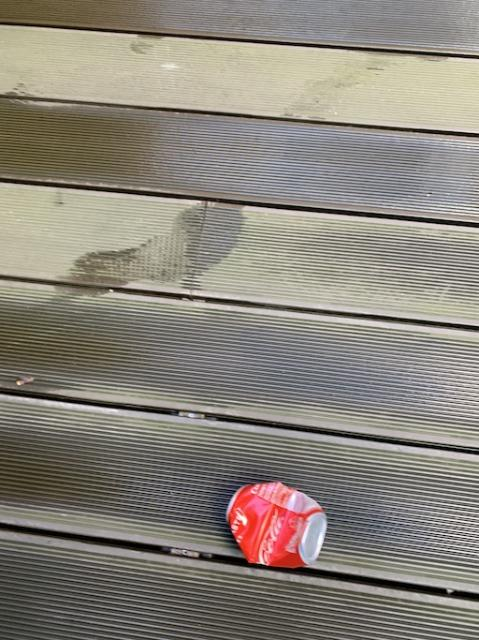metal: (227, 483, 326, 568)
